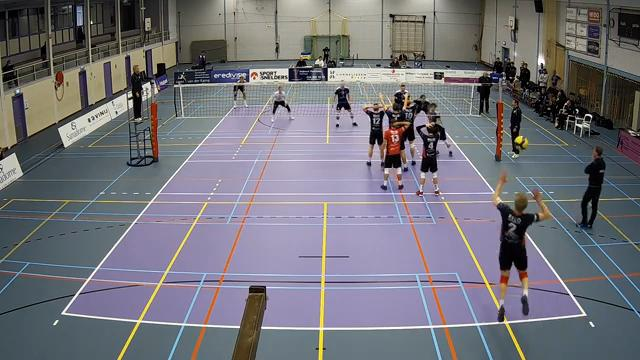battuta: (482, 166, 551, 319)
